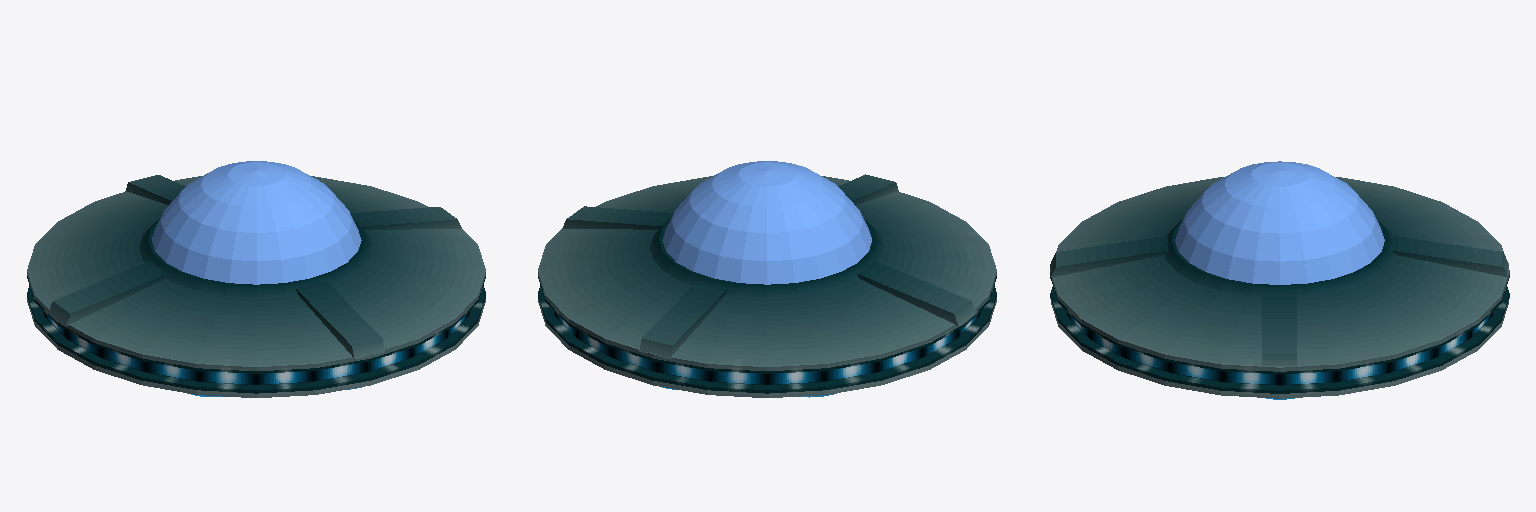
3 views of the same model, side by side, from view 1: azimuth 30°, elevation 25°; view 2: azimuth 150°, elevation 25°; view 3: azimuth 270°, elevation 25° (orthographic).
Parts seen in each view (by area): view 1: saucer, glass; view 2: saucer, glass; view 3: saucer, glass.
Part boxes in pixels (bbox=[...]): saucer: bbox=[27, 175, 485, 397]; glass: bbox=[152, 161, 361, 284]; saucer: bbox=[538, 174, 996, 397]; glass: bbox=[662, 161, 871, 284]; saucer: bbox=[1050, 177, 1509, 398]; glass: bbox=[1175, 161, 1384, 284].
Bounding box in the file's own units: 154 × 62.64 × 153.
3 materials, 1 textured.